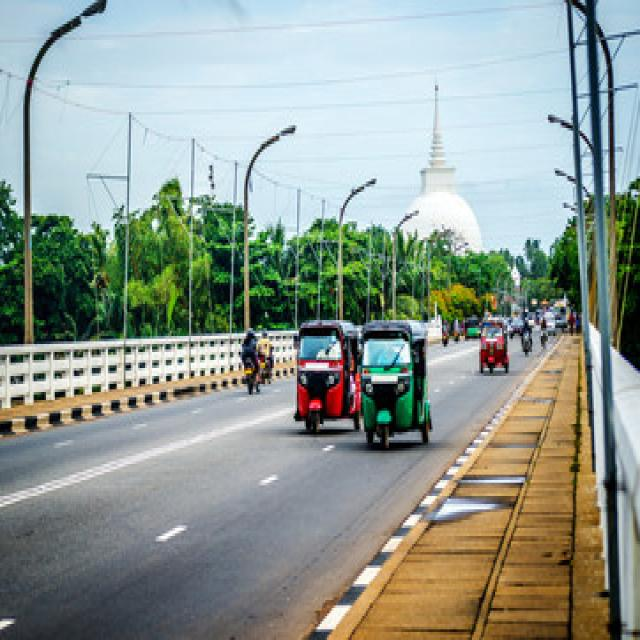motorcycle: (244, 355, 258, 395), (260, 355, 272, 384)
person: (242, 328, 256, 371), (258, 331, 270, 357)
three wheeler: (362, 320, 430, 448), (297, 323, 359, 432), (479, 320, 507, 373)
